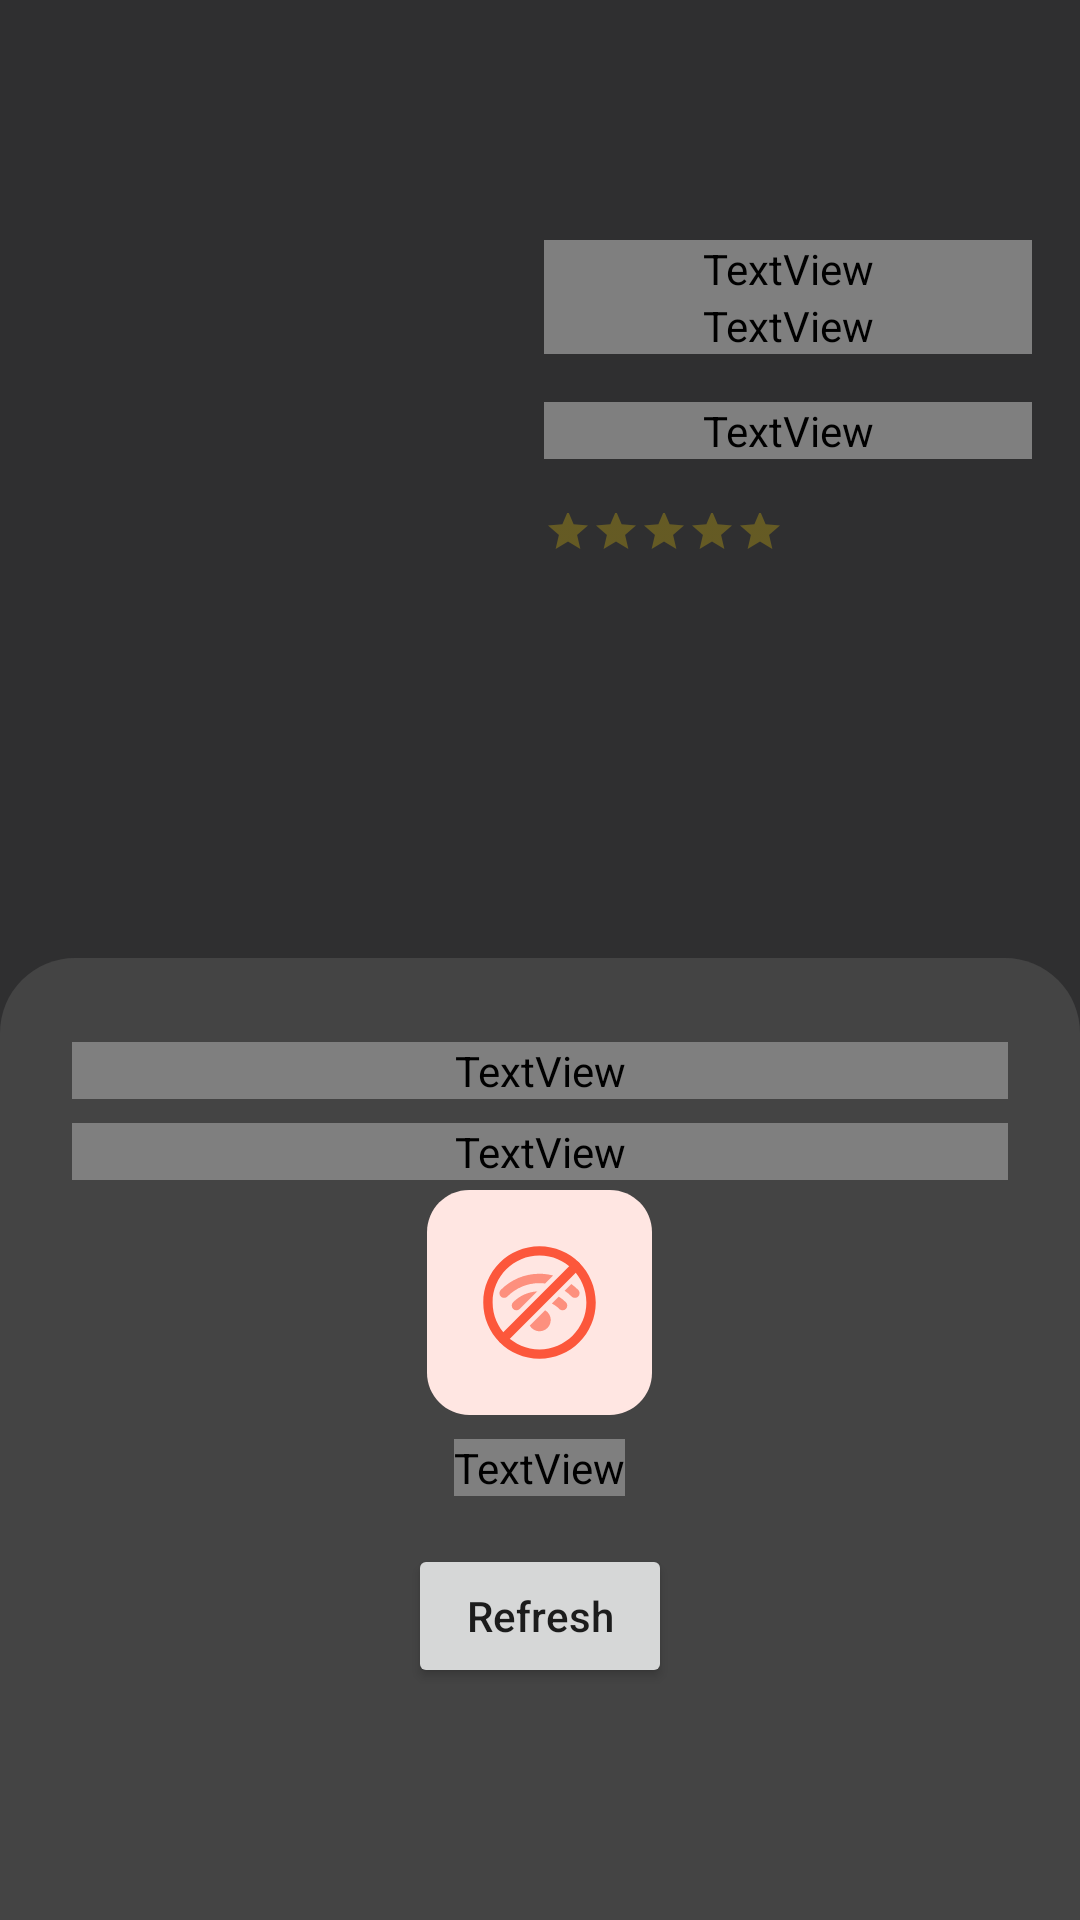

Icons on this 1080*1920 Android screen, each with its box as BBox(x1, y1, x2, y2):
No Internet Connection: BBox(427, 1190, 652, 1415)
